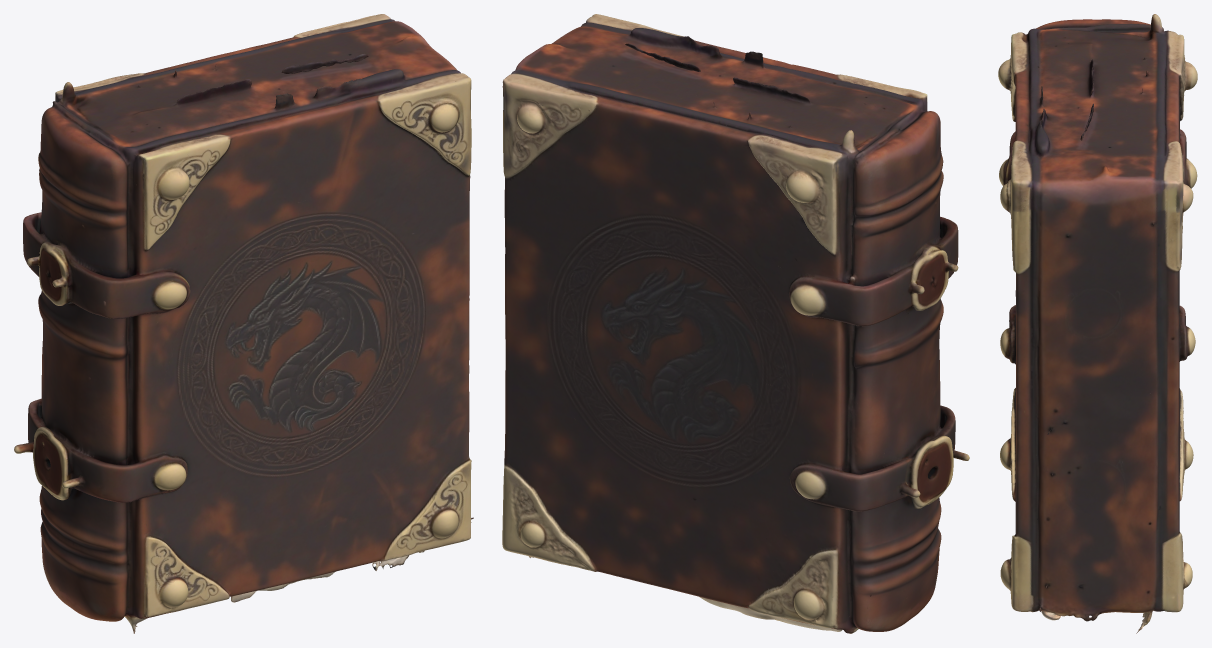
File: Libro.glb
The picture shows the model from 3 angles, left to right: view 1: azimuth 30°, elevation 25°; view 2: azimuth 150°, elevation 25°; view 3: azimuth 270°, elevation 25°; orthographic projection. The views are drawn at different scales.
Bounding box in the file's own units: 1.65 × 2 × 0.7565.
1 material, 1 textured.
